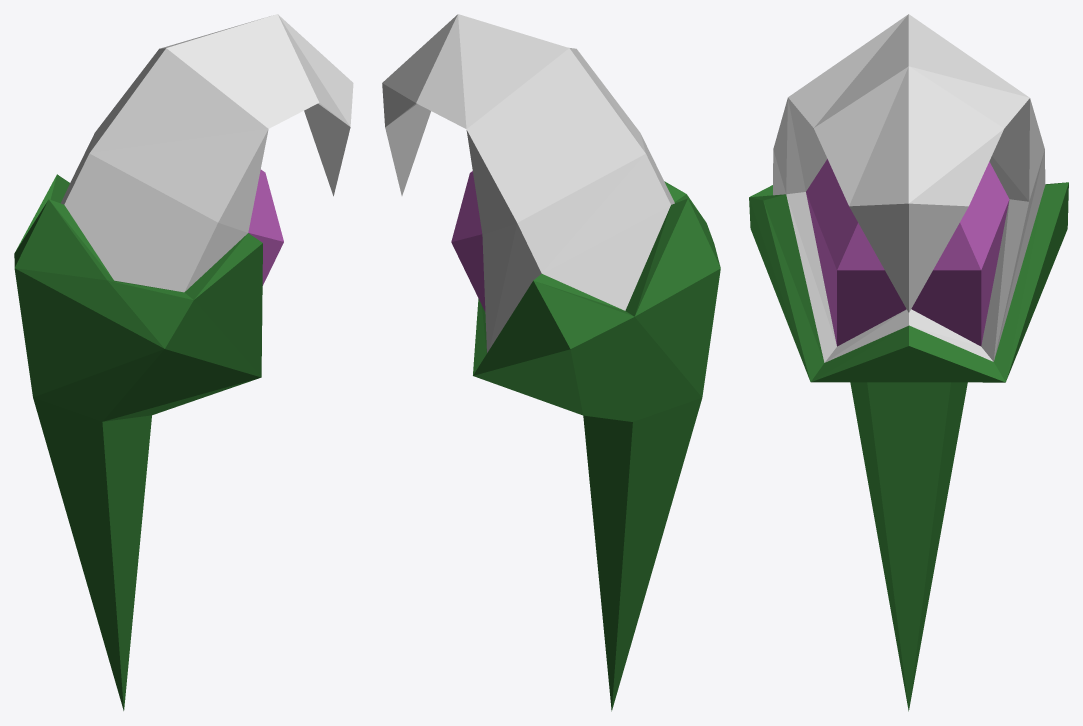
File: Flower_02.FBX
The picture shows the model from 3 angles, left to right: view 1: azimuth 30°, elevation 25°; view 2: azimuth 150°, elevation 25°; view 3: azimuth 270°, elevation 25°; orthographic projection. The views are drawn at different scales.
Parts seen in each view (by area): view 1: Flower_02; view 2: Flower_02; view 3: Flower_02.
Boxes of the visible parts, x1=… form: Flower_02: x1=14, y1=14, x2=353, y2=710; Flower_02: x1=382, y1=14, x2=720, y2=711; Flower_02: x1=749, y1=14, x2=1068, y2=711.
Size of the model in its own units: 0.9005 by 1.68 by 0.6679.
